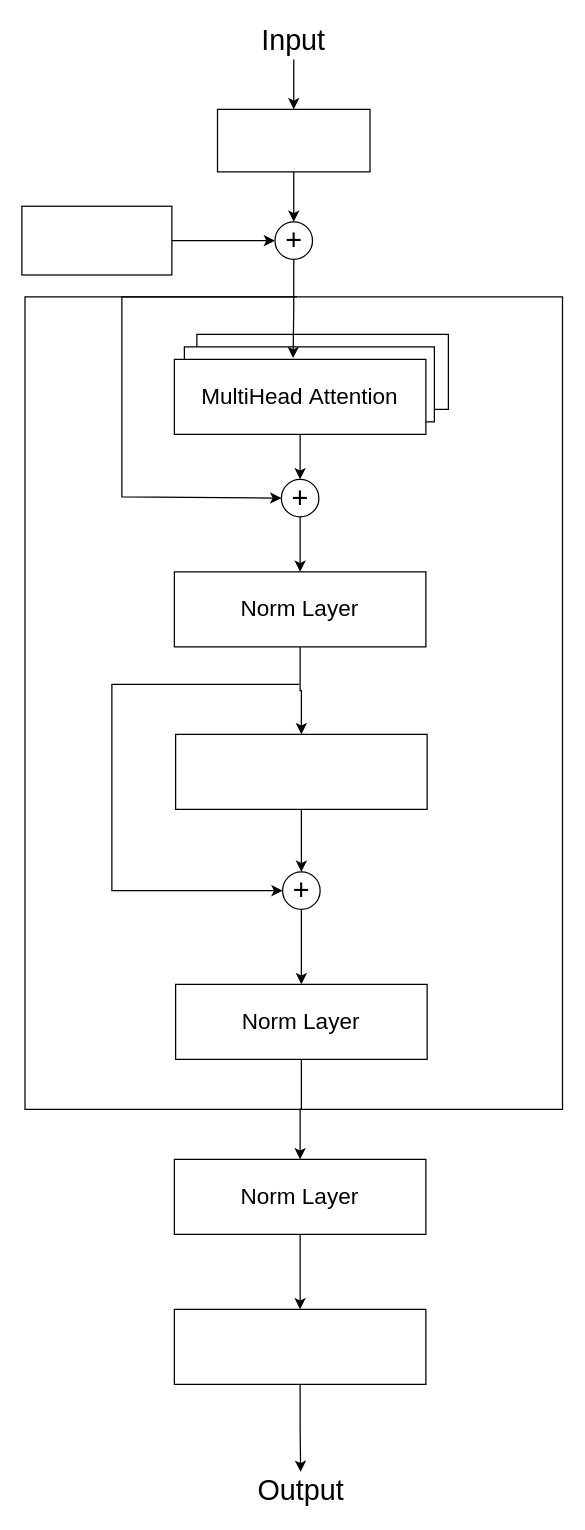
The diagram is 585 pixels wide and 1530 high, and some of its shapes have lost their labels. Here are the shapes that lost their labels. From the top down, the centre of each, then its label:
the point at 293,140: Embedding
the point at 96,240: Positional Embedding
the point at 300,771: Feed Forward
the point at 299,1346: Softmax
